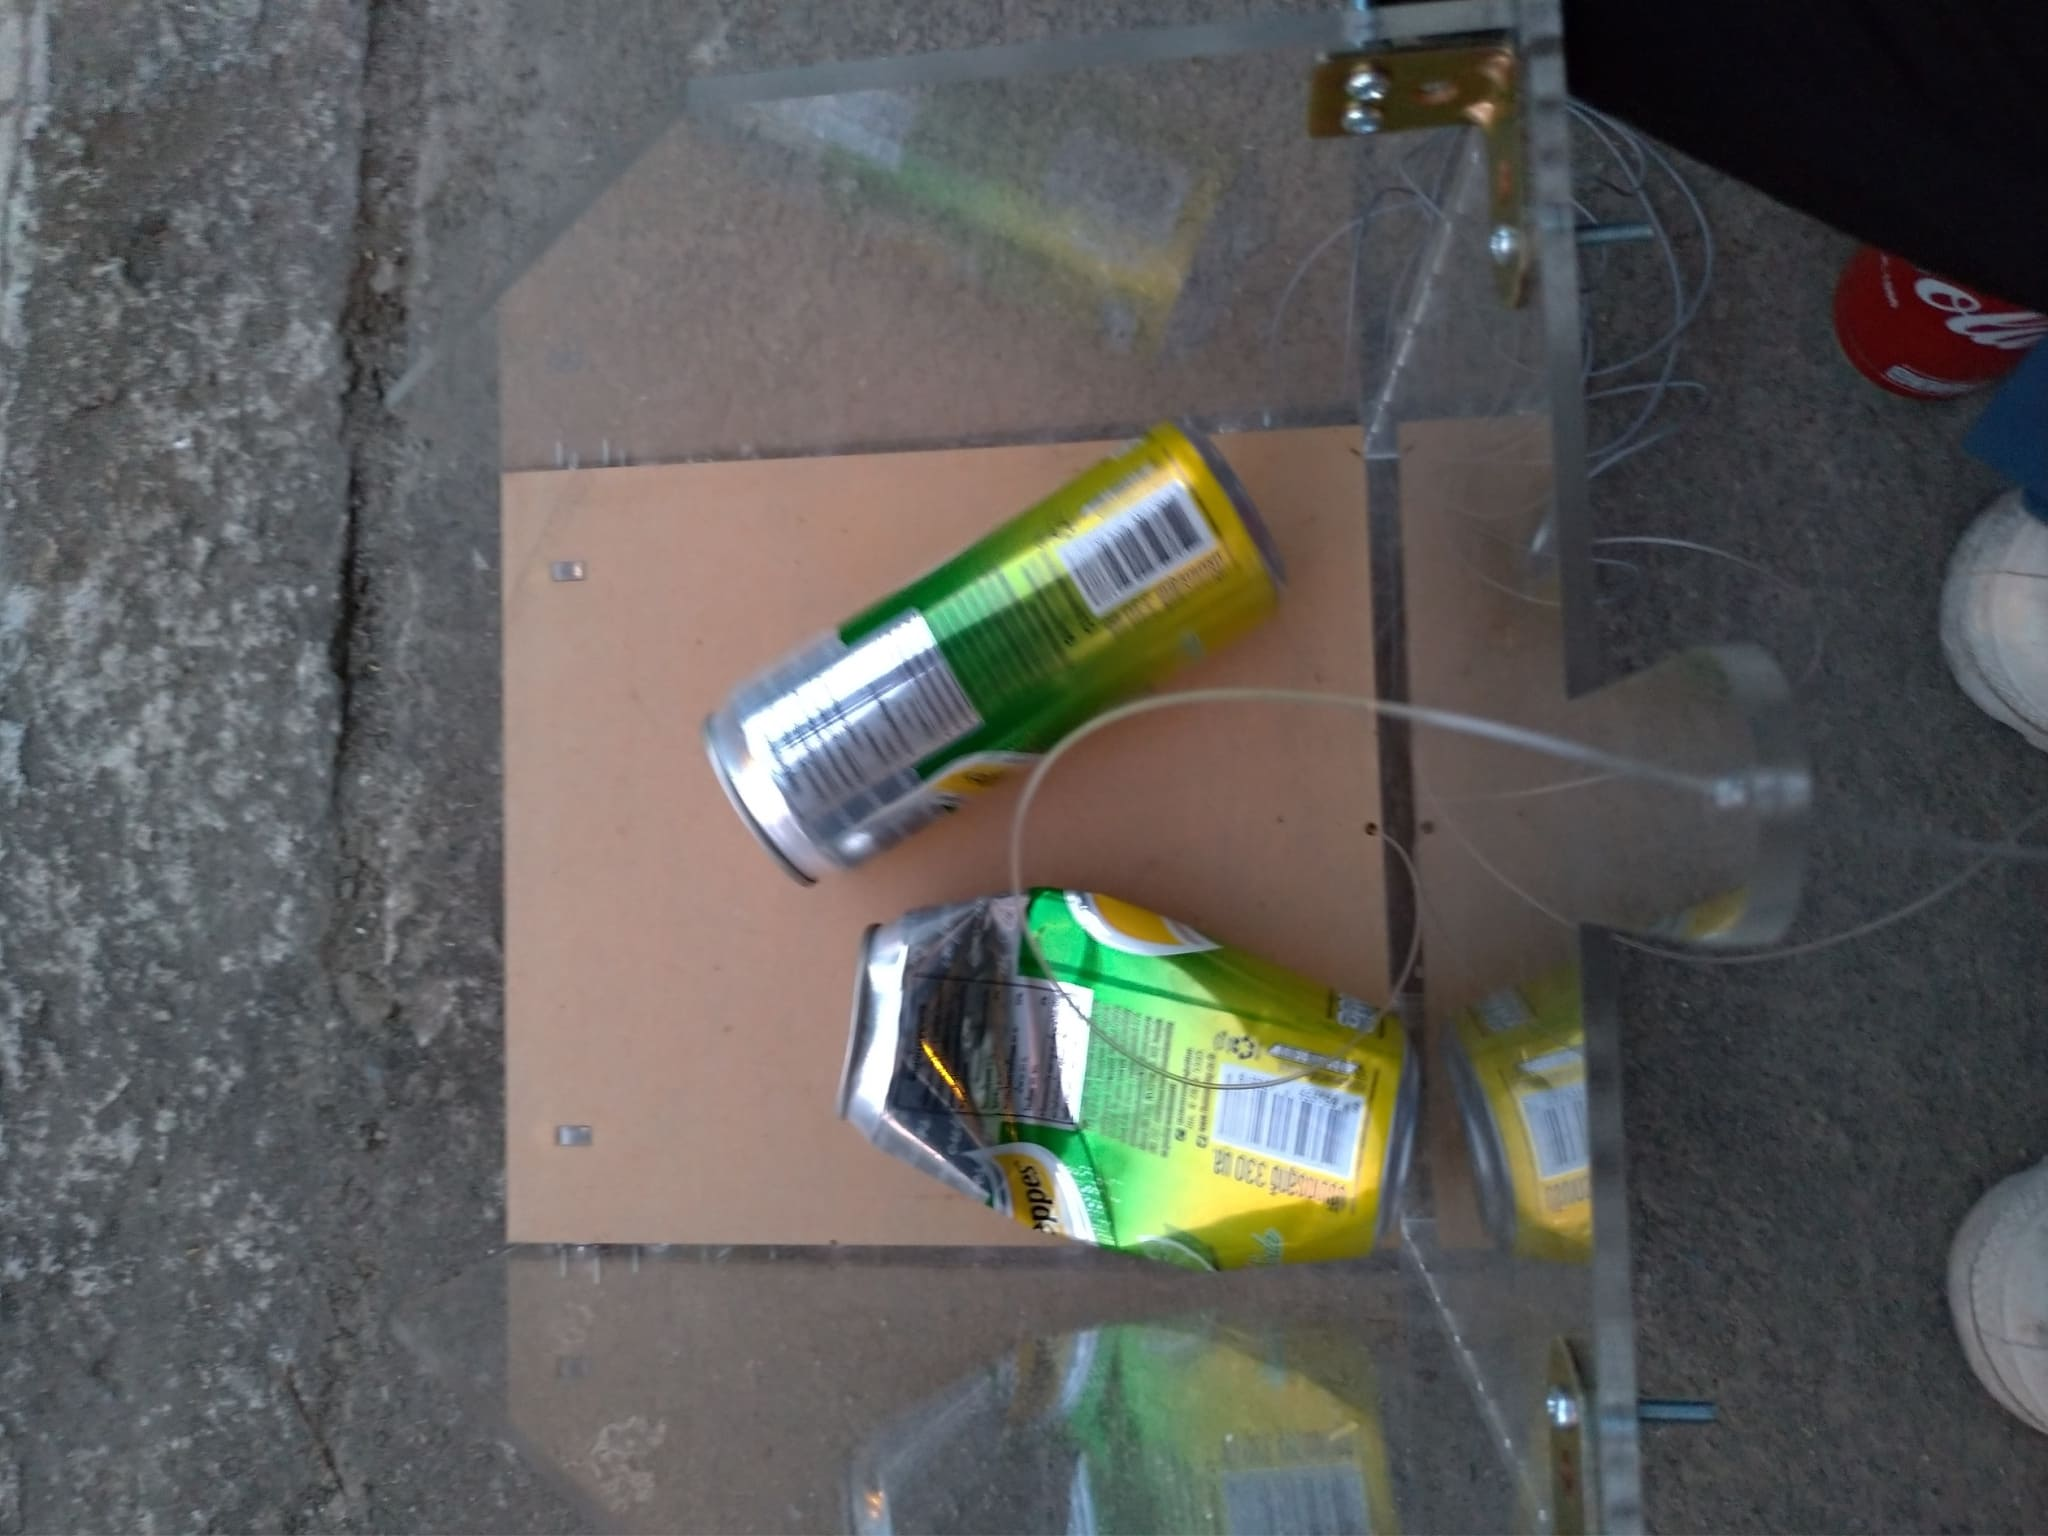AlCan: (695, 416, 1288, 886), (842, 886, 1426, 1270)
